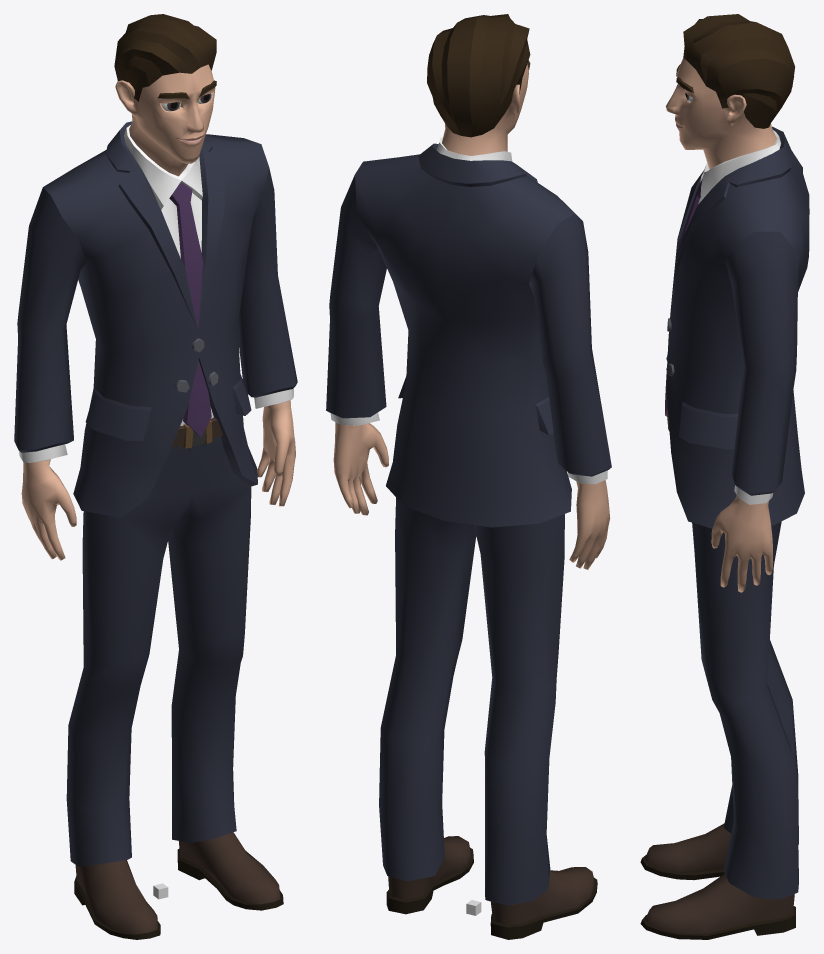
Rendered from man.glb.
The picture shows the model from 3 angles, left to right: view 1: azimuth 30°, elevation 25°; view 2: azimuth 150°, elevation 25°; view 3: azimuth 270°, elevation 25°; orthographic projection.
Visible parts, largest first — view 1: man_in_suit; view 2: man_in_suit; view 3: man_in_suit.
Part boxes in pixels (bbox=[...]): man_in_suit: bbox=[14, 14, 297, 939]; man_in_suit: bbox=[326, 14, 611, 939]; man_in_suit: bbox=[640, 14, 809, 939].
Bounding box in the file's own units: 59.45 × 179 × 31.12.
